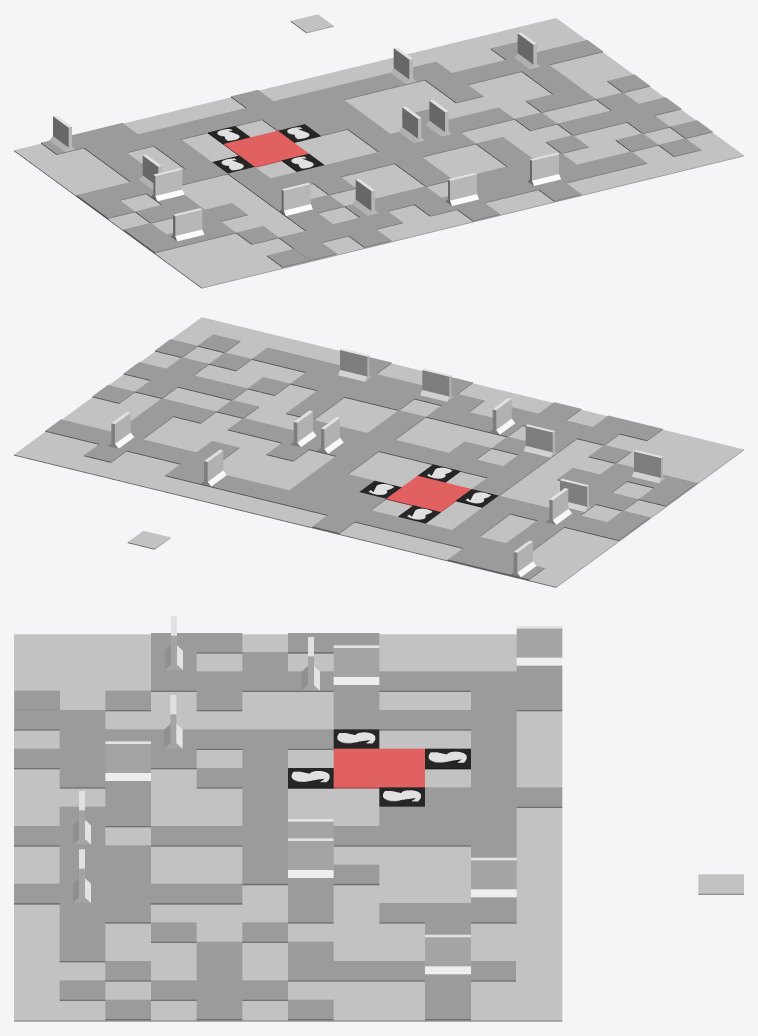
File: 보드게임 수정판3D 02.obj
3 views of the same model, one above another, from view 1: azimuth 30°, elevation 25°; view 2: azimuth 150°, elevation 25°; view 3: azimuth 270°, elevation 25° (orthographic). The views are drawn at different scales.
Parts seen in each view (by area): view 1: Mesh2 Group2 Model, Mesh1 Group1 Model, Mesh76 Group8 wall6 Model, Mesh72 Group7 wall5 Model, Mesh82 Group9 wall7 Model, Mesh109 Group11 wall9 Model, Mesh120 Group12 wall10 Model, Mesh150 fd_1_1 Model, Mesh151 fd110 Model, Mesh95 fd64 Model, Mesh112 fd75 Model, Mesh131 fd91 Model (+51 smaller); view 2: Mesh2 Group2 Model, Mesh1 Group1 Model, Mesh109 Group11 wall9 Model, Mesh120 Group12 wall10 Model, Mesh72 Group7 wall5 Model, Mesh82 Group9 wall7 Model, Mesh76 Group8 wall6 Model, Mesh150 fd_1_1 Model, Mesh44 fd42 Model, Mesh45 fd43 Model, Mesh63 Group4 wall2 Model, Mesh66 Group5 wall3 Model (+71 smaller); view 3: Mesh2 Group2 Model, Mesh1 Group1 Model, Mesh152 Group13 wall11 Model, Mesh158 Group14 wall12 Model, Mesh66 Group5 wall3 Model, Mesh69 Group6 wall4 Model, Mesh63 Group4 wall2 Model, Mesh98 Group10 wall8 Model, Mesh114 fd77 Model, Mesh35 fd33 Model, Mesh75 fd50 Model, Mesh113 fd76 Model (+95 smaller).
Part boxes in pixels (box(x1,y1,x2,y2)): Mesh2 Group2 Model: box(14, 18, 743, 288); Mesh1 Group1 Model: box(223, 130, 308, 167); Mesh76 Group8 wall6 Model: box(153, 168, 182, 199); Mesh72 Group7 wall5 Model: box(281, 182, 310, 213); Mesh82 Group9 wall7 Model: box(173, 208, 202, 239); Mesh109 Group11 wall9 Model: box(448, 173, 476, 204); Mesh120 Group12 wall10 Model: box(530, 152, 558, 183); Mesh150 fd_1_1 Model: box(290, 14, 333, 33); Mesh151 fd110 Model: box(538, 182, 581, 201); Mesh95 fd64 Model: box(348, 229, 391, 247); Mesh112 fd75 Model: box(457, 202, 499, 221); Mesh131 fd91 Model: box(627, 115, 669, 133); Mesh2 Group2 Model: box(14, 317, 743, 587); Mesh1 Group1 Model: box(386, 475, 471, 512); Mesh109 Group11 wall9 Model: box(422, 368, 451, 399); Mesh120 Group12 wall10 Model: box(340, 348, 369, 379); Mesh72 Group7 wall5 Model: box(525, 424, 554, 455); Mesh82 Group9 wall7 Model: box(634, 450, 662, 481); Mesh76 Group8 wall6 Model: box(560, 478, 588, 509); Mesh150 fd_1_1 Model: box(127, 531, 170, 549); Mesh44 fd42 Model: box(638, 487, 681, 506); Mesh45 fd43 Model: box(591, 522, 634, 540); Mesh63 Group4 wall2 Model: box(293, 410, 312, 446); Mesh66 Group5 wall3 Model: box(513, 540, 532, 576); Mesh2 Group2 Model: box(14, 634, 562, 1021); Mesh1 Group1 Model: box(333, 748, 424, 788); Mesh152 Group13 wall11 Model: box(425, 934, 470, 966); Mesh158 Group14 wall12 Model: box(471, 857, 516, 889); Mesh66 Group5 wall3 Model: box(516, 626, 562, 657); Mesh69 Group6 wall4 Model: box(333, 645, 379, 676); Mesh63 Group4 wall2 Model: box(288, 838, 333, 869); Mesh98 Group10 wall8 Model: box(105, 741, 150, 772); Mesh114 fd77 Model: box(196, 883, 242, 904); Mesh35 fd33 Model: box(196, 690, 242, 711); Mesh75 fd50 Model: box(516, 690, 562, 711); Mesh113 fd76 Model: box(333, 864, 379, 885).
Bounding box in the file's own units: 6000 × 280 × 4794.
